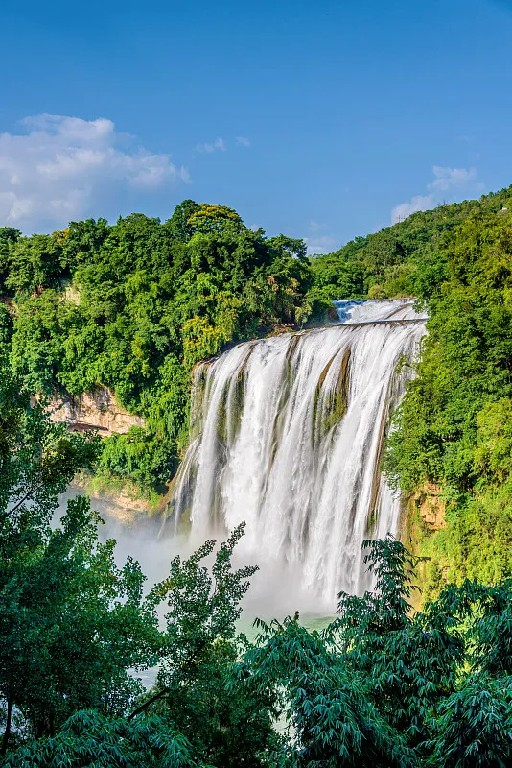Huangguoshu: (162, 299, 430, 616)
